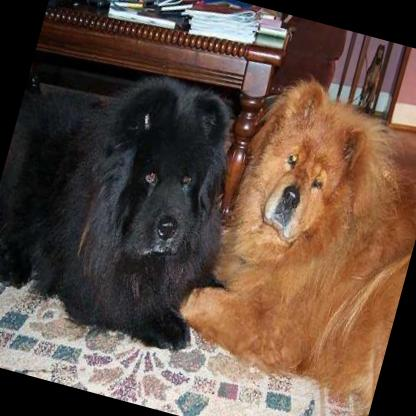chow: (155, 60, 416, 416), (0, 43, 253, 353)
